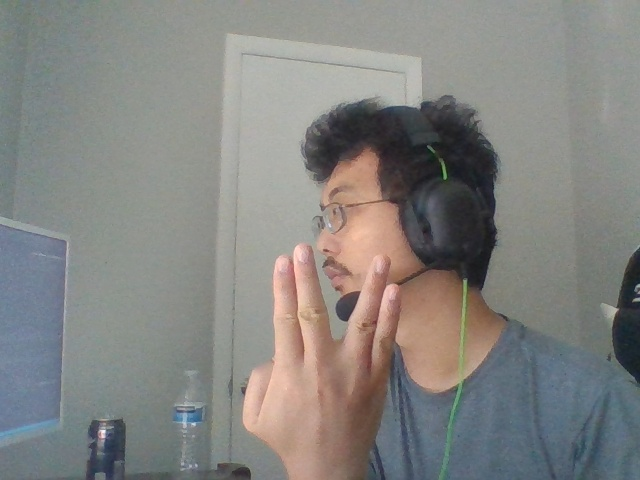LiveLong: (242, 243, 400, 468)
